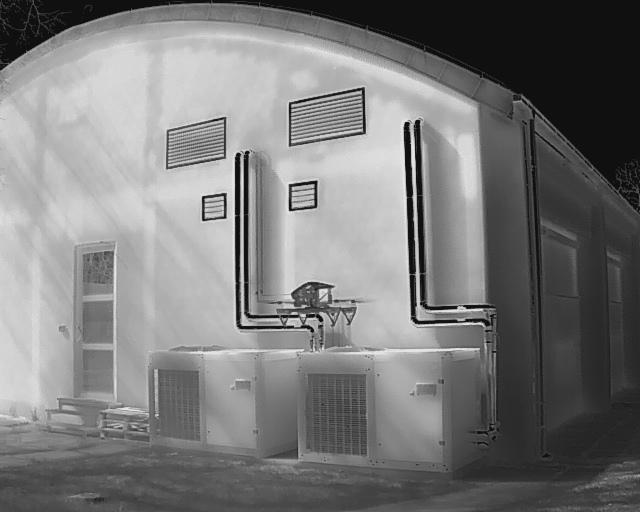drone: (265, 277, 365, 336)
